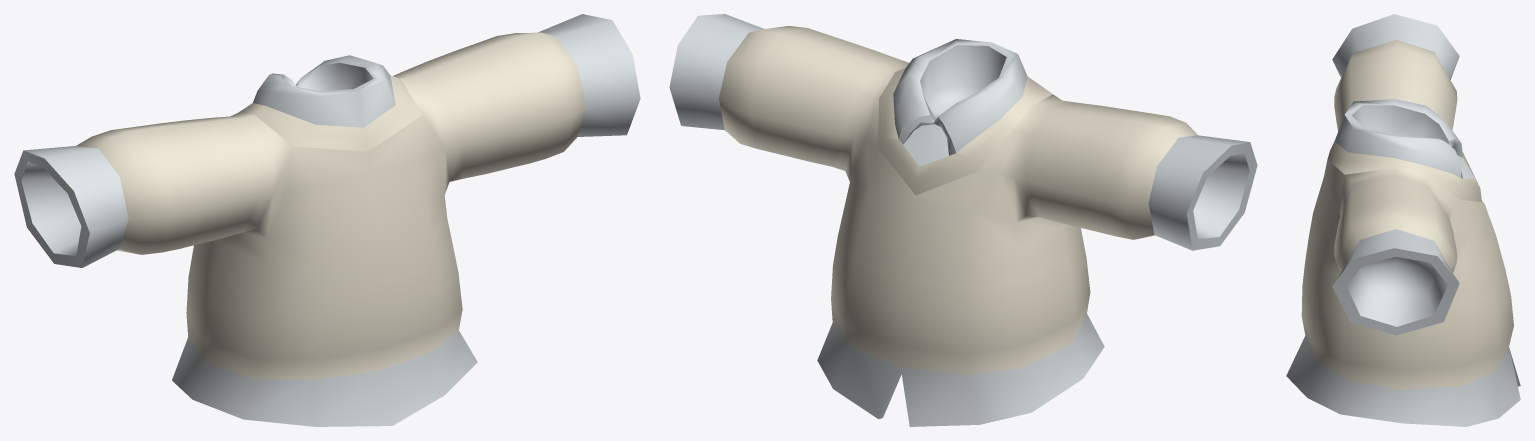
Rendered from Top_27.fbx.
The picture shows the model from 3 angles, left to right: view 1: azimuth 30°, elevation 25°; view 2: azimuth 150°, elevation 25°; view 3: azimuth 270°, elevation 25°; orthographic projection. The views are drawn at different scales.
Parts seen in each view (by area): view 1: Top_27; view 2: Top_27; view 3: Top_27.
Part boxes in pixels (x1,y1,x2,y2): Top_27: (14, 14, 640, 426); Top_27: (669, 14, 1257, 426); Top_27: (1286, 14, 1520, 426).
Size of the model in its own units: 100 by 55.83 by 42.52.
